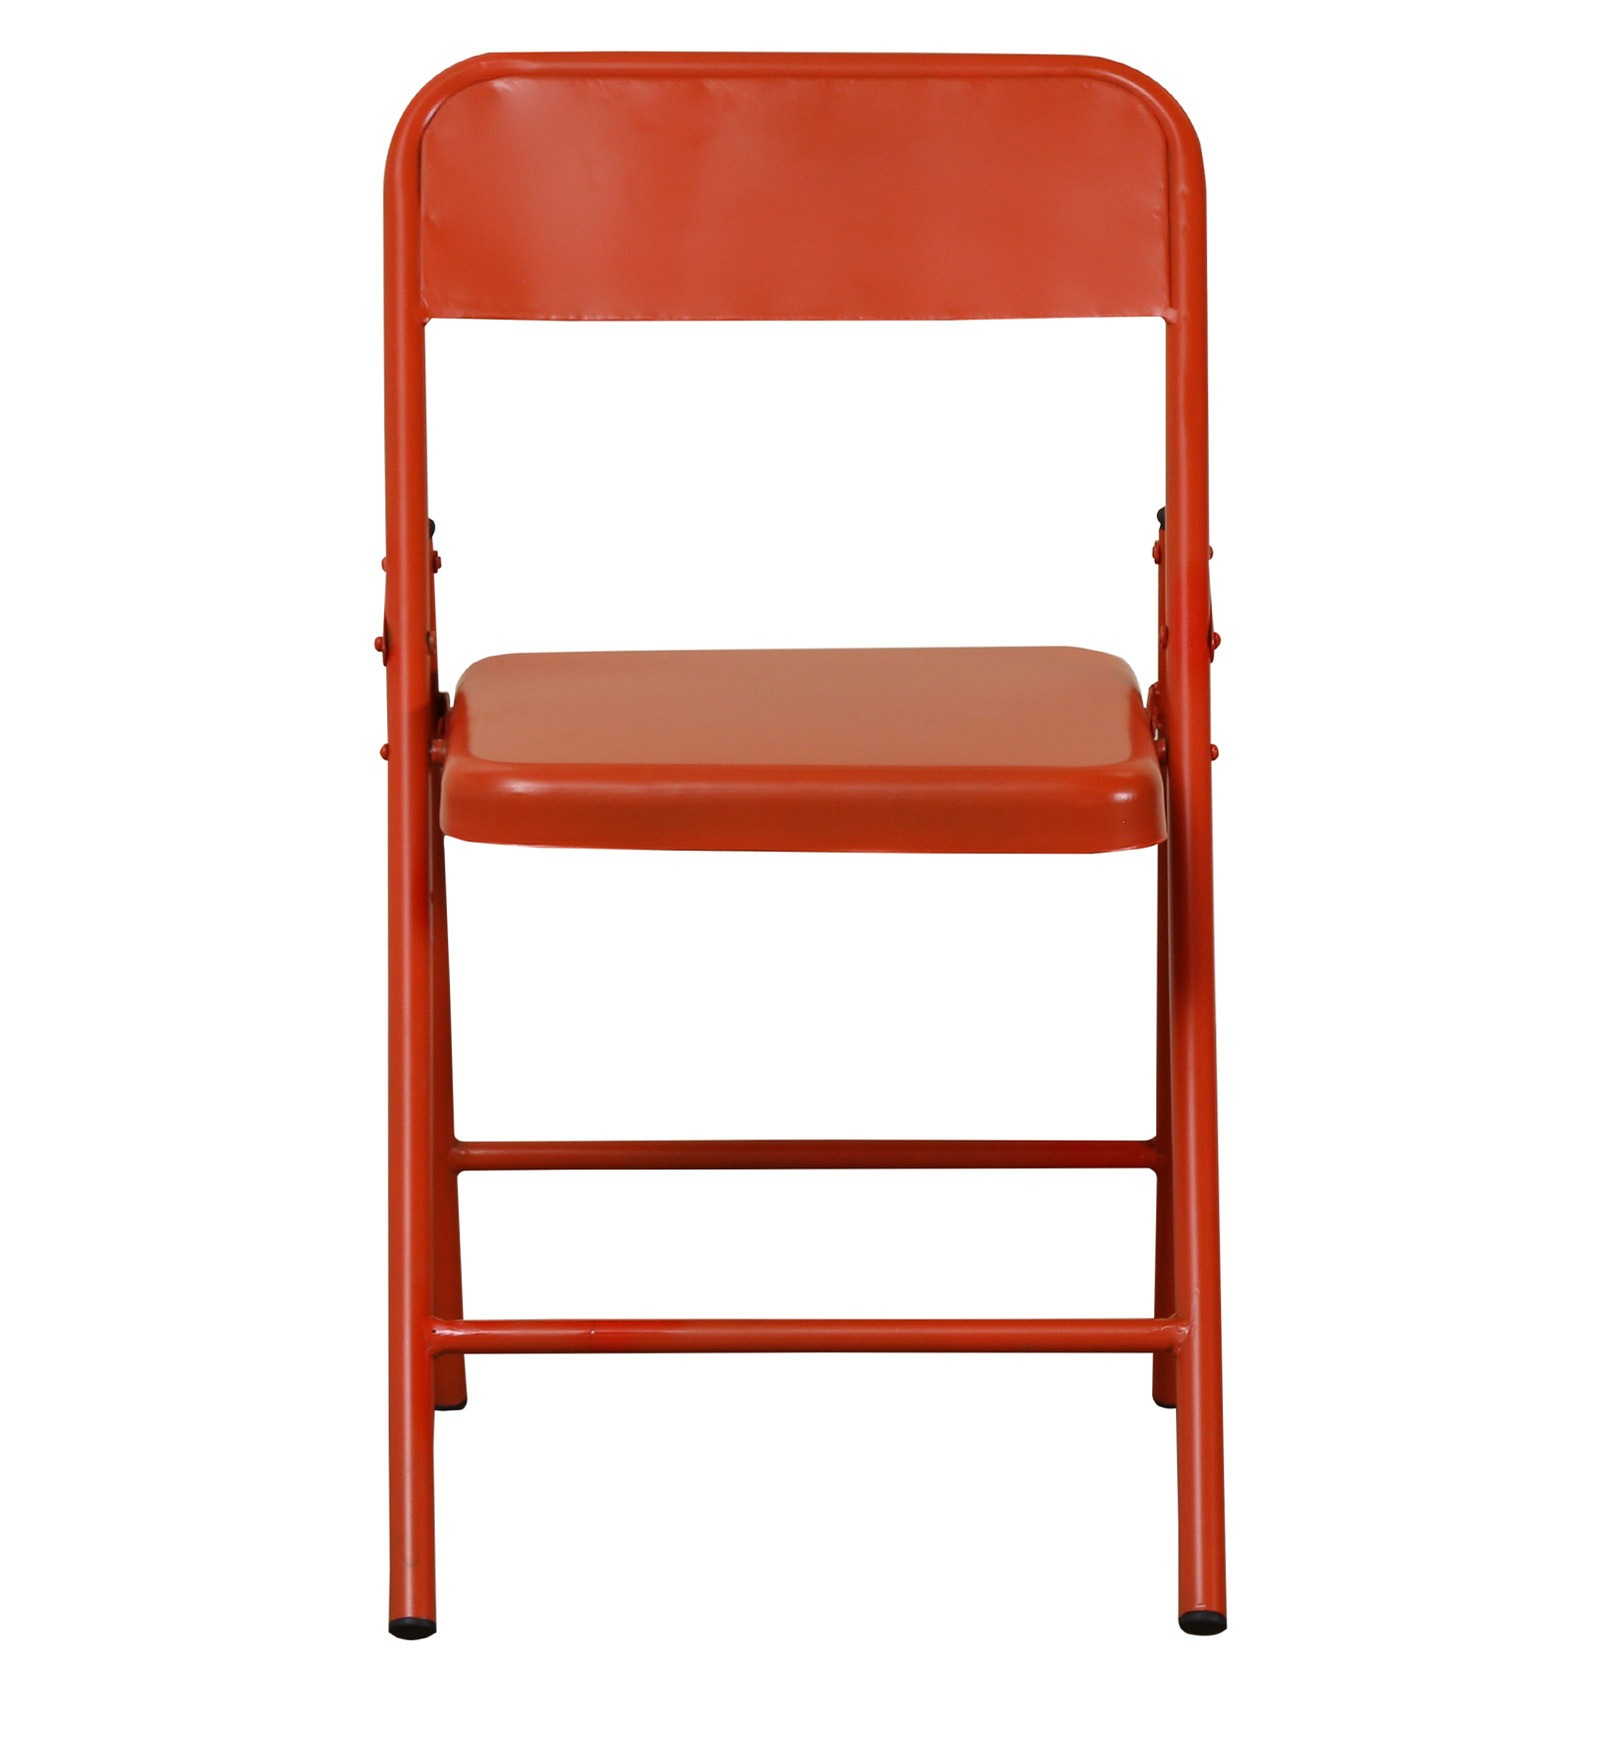Kell Folding Chair in Orange Color by Bohemiana: (342, 35, 1274, 1680)
